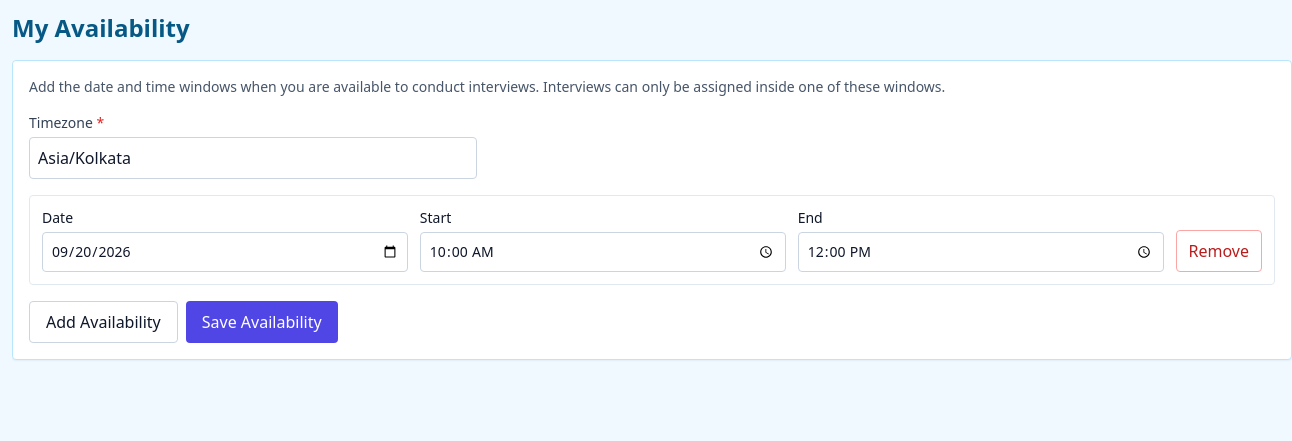
Test: MyAvailabilityPage › loads and saves the panel member's availability
This screenshot has width=1292, height=441.
Expected: the date field showing "2026-09-20" is shown, x1=42 y1=232 x2=408 y2=272
Expected: the time field showing "10:00" is shown, x1=420 y1=232 x2=786 y2=272
Click the button "Save Availability": (262, 322) x1=186 y1=301 x2=338 y2=343
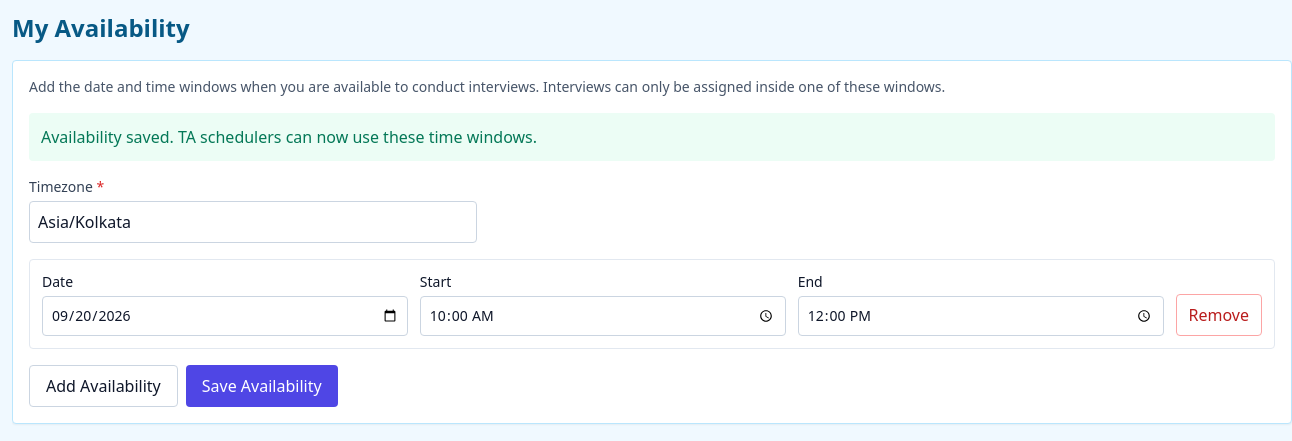
Result: the text "TA schedulers can now use these time windows" is shown at x1=41 y1=126 x2=537 y2=148
